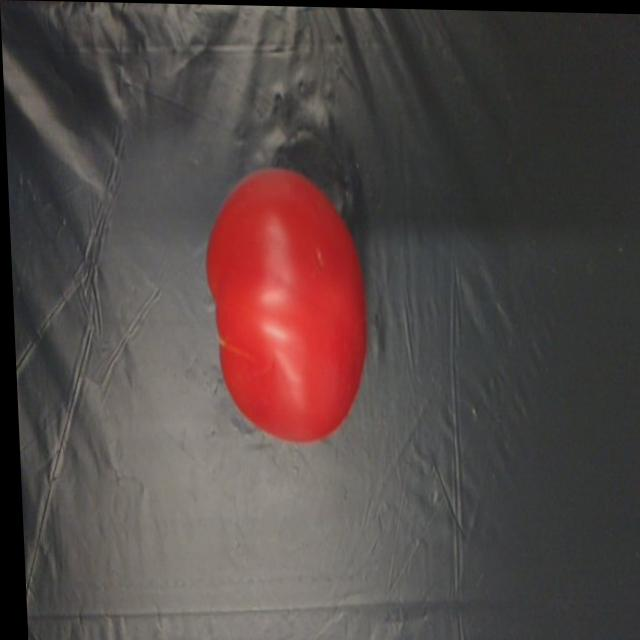kirmizi: (193, 163, 374, 446)
